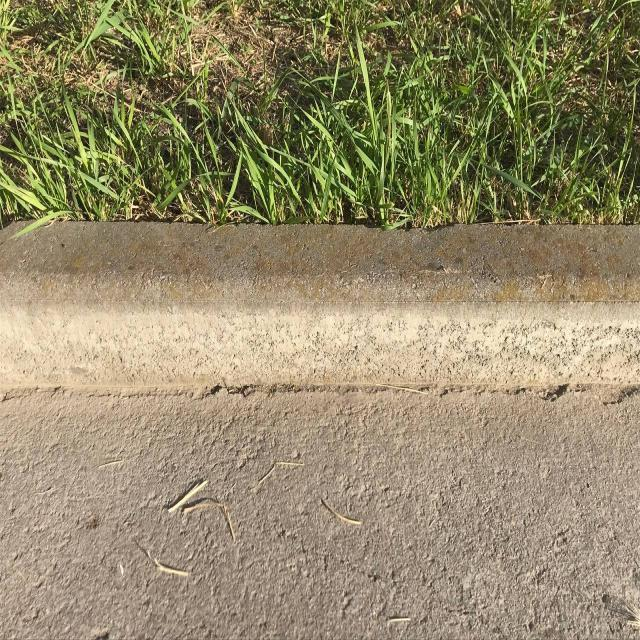bump: (0, 222, 639, 427)
